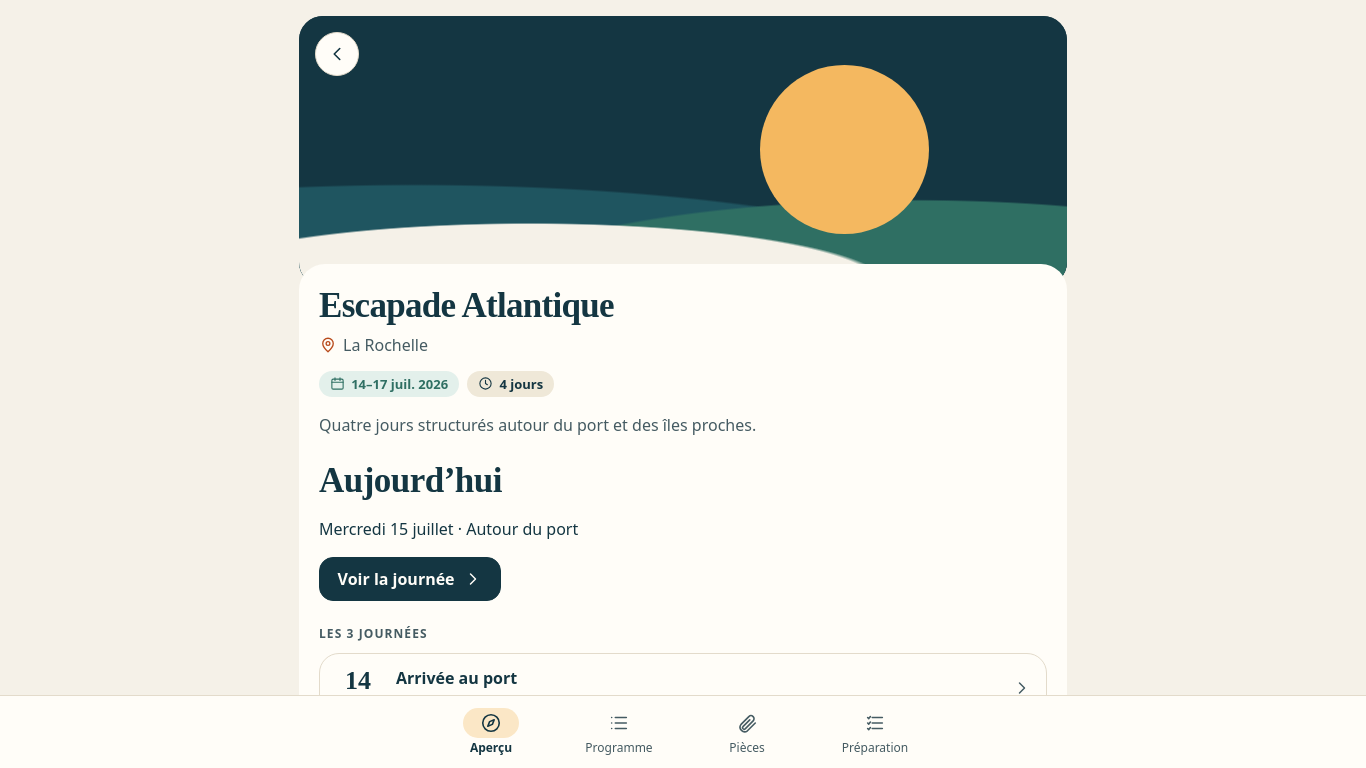
it: espace Pièces › place Pièces entre Programme et Préparation dans la navigation du bas
Click the button "Pièces" at (747, 732), box [683,704,811,760]
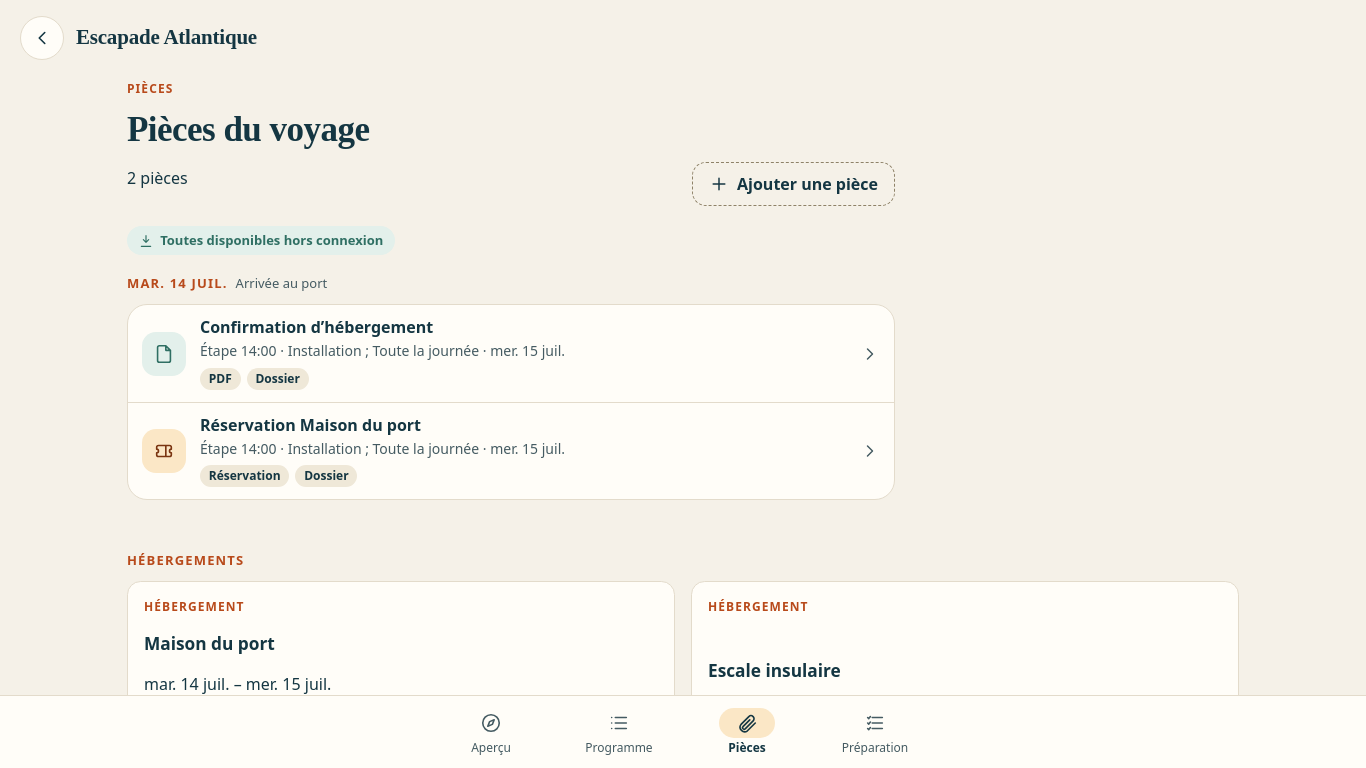
Expected: the heading "Pièces du voyage" is shown, [127,110,369,150]
